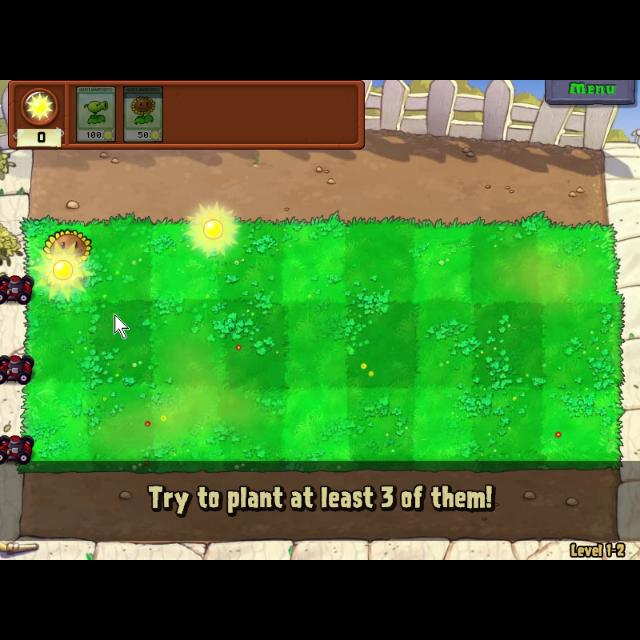Garden: (19, 216, 624, 474)
Menu Button: (542, 80, 636, 104)
Mower: (0, 268, 38, 306), (0, 430, 38, 466), (1, 349, 36, 388)
Peashooter: (74, 83, 116, 143)
Seed Panel: (6, 80, 366, 152)
Sun: (32, 242, 98, 304), (182, 202, 244, 262)
Sunflower: (124, 85, 164, 143)
Sunflower Seed: (42, 225, 98, 265)
